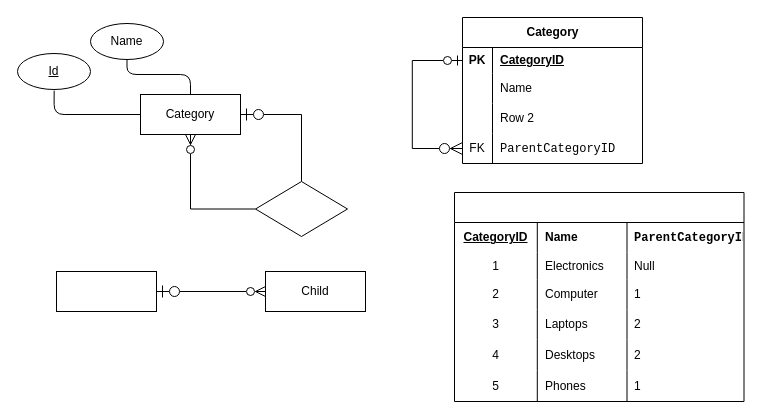
This 766x419 diagram has some shape labels left out. Here are the shapes that lost their labels. From the top down, the box of each, then its label:
(254, 180, 348, 236): Contains
(56, 270, 156, 312): Parent
(454, 192, 744, 402): Table
